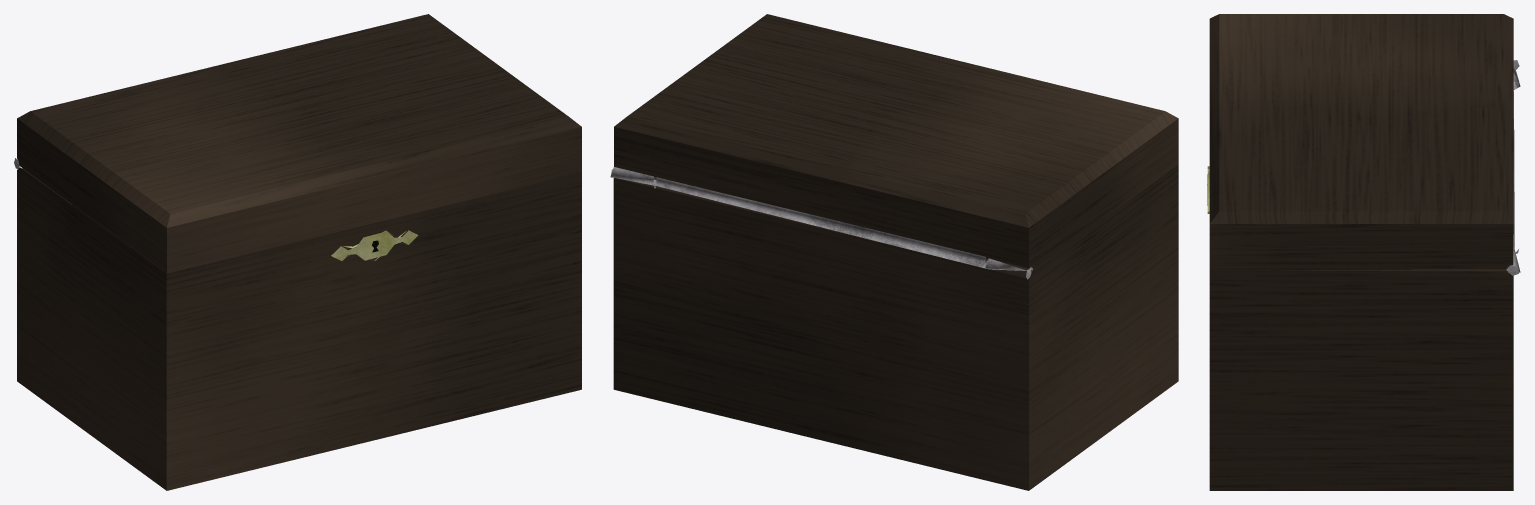
Rendered from woodenCase1.fbx.
3 views of the same model, side by side, from view 1: azimuth 30°, elevation 25°; view 2: azimuth 150°, elevation 25°; view 3: azimuth 270°, elevation 25° (orthographic).
Parts seen in each view (by area): view 1: Wooden_Case_bottom_WoodCase_Bot_Material_0, Wooden_Case_top_WoodCase_Top_Material_0; view 2: Wooden_Case_bottom_WoodCase_Bot_Material_0, Wooden_Case_top_WoodCase_Top_Material_0; view 3: Wooden_Case_top_WoodCase_Top_Material_0, Wooden_Case_bottom_WoodCase_Bot_Material_0.
Boxes of the visible parts, x1,y1,x2,y2 form: Wooden_Case_bottom_WoodCase_Bot_Material_0: (17, 167, 581, 490); Wooden_Case_top_WoodCase_Top_Material_0: (14, 14, 581, 273); Wooden_Case_bottom_WoodCase_Bot_Material_0: (613, 164, 1178, 490); Wooden_Case_top_WoodCase_Top_Material_0: (610, 14, 1178, 279); Wooden_Case_top_WoodCase_Top_Material_0: (1209, 14, 1520, 275); Wooden_Case_bottom_WoodCase_Bot_Material_0: (1207, 166, 1513, 490).
Bounding box in the file's own units: 96.87 × 60.42 × 62.24.
